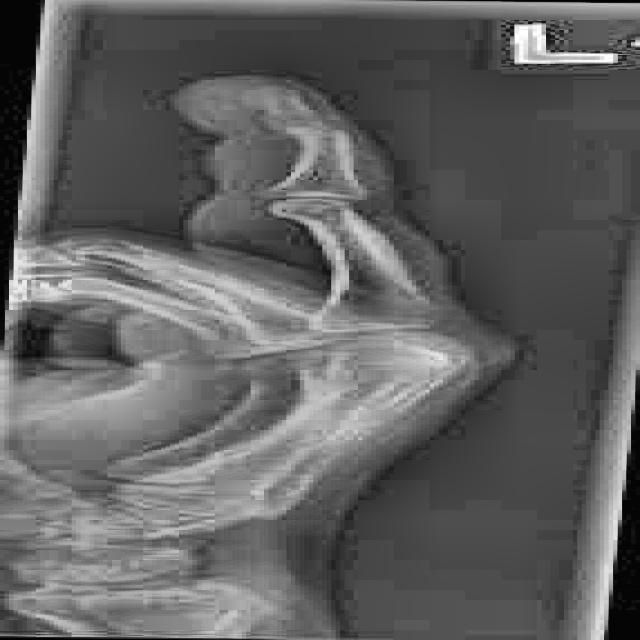fingers positive: (255, 117, 365, 146)
